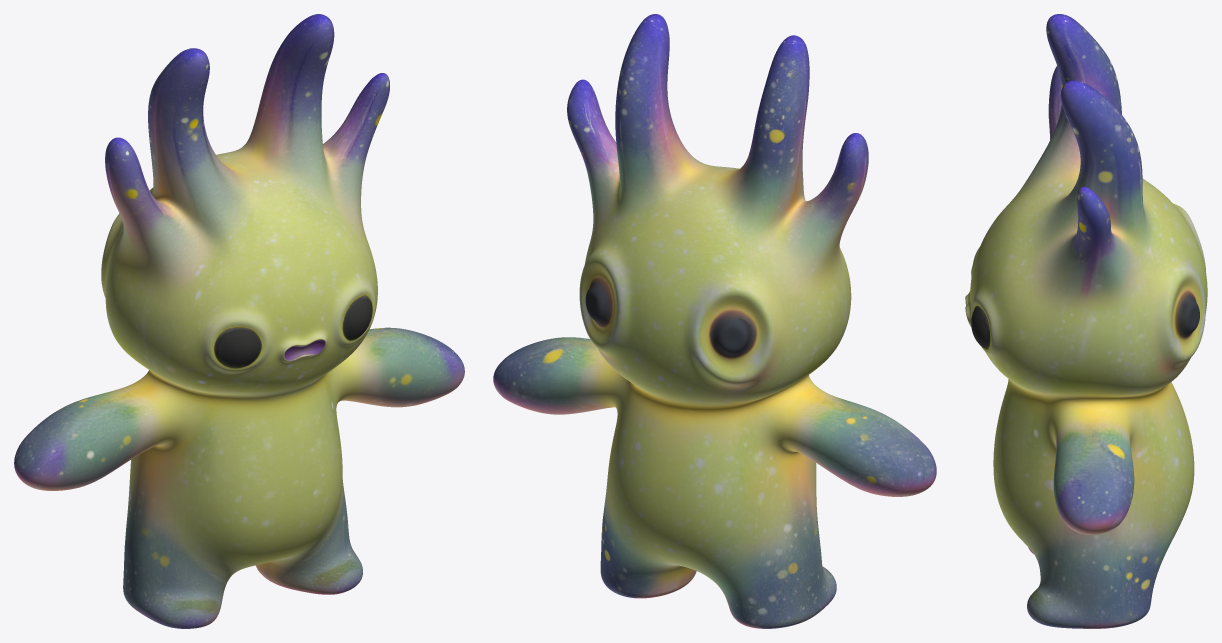
The model's file is Meshy_AI_slime_0709233128_texture.glb.
3 views of the same model, side by side, from view 1: azimuth 30°, elevation 25°; view 2: azimuth 150°, elevation 25°; view 3: azimuth 270°, elevation 25° (orthographic). The views are drawn at different scales.
Size of the model in its own units: 1.63 by 2 by 0.8118.
1 material, 1 textured.
